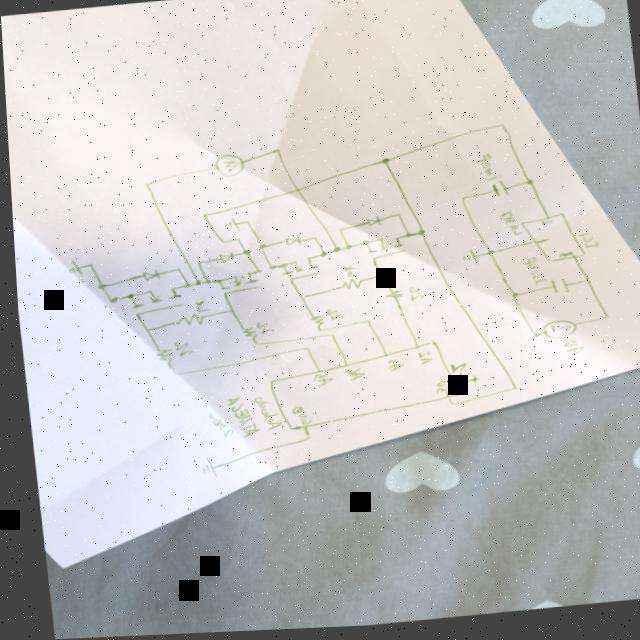capacitor: (545, 282, 568, 300), (487, 185, 509, 203)
crossover: (291, 189, 300, 196)
diode: (136, 269, 158, 283), (212, 253, 234, 267), (278, 237, 300, 251), (360, 219, 382, 232)
ground: (192, 458, 213, 482), (457, 253, 476, 271), (61, 261, 81, 278), (221, 219, 237, 234)
junction: (296, 437, 309, 445), (377, 161, 389, 169), (269, 150, 281, 158), (526, 336, 536, 345), (93, 284, 104, 292), (522, 183, 533, 191), (140, 183, 152, 190), (239, 251, 249, 259), (223, 309, 233, 317), (253, 246, 263, 254), (105, 297, 115, 305), (506, 297, 516, 304), (316, 254, 326, 261), (197, 214, 207, 221), (414, 234, 424, 241), (329, 250, 339, 257), (166, 372, 176, 379), (400, 236, 410, 243), (495, 127, 506, 133), (597, 320, 607, 326), (307, 238, 315, 245), (483, 255, 492, 261), (443, 405, 452, 411), (341, 248, 350, 254), (391, 216, 399, 222), (298, 349, 306, 355), (334, 231, 343, 236), (192, 263, 201, 268), (372, 277, 381, 282), (578, 284, 587, 289), (506, 391, 515, 396), (171, 269, 180, 274), (181, 285, 188, 291), (241, 222, 249, 227), (217, 242, 225, 247), (296, 298, 304, 303), (324, 336, 332, 341), (266, 268, 274, 273), (83, 265, 92, 269), (457, 201, 465, 205), (360, 323, 368, 327), (140, 330, 148, 334), (248, 344, 256, 348), (231, 240, 239, 244), (253, 272, 259, 277), (191, 283, 198, 287), (203, 282, 208, 286)
resistor: (171, 315, 203, 330), (335, 281, 361, 295), (149, 350, 171, 365), (381, 292, 402, 304), (237, 329, 255, 341), (306, 317, 322, 330)
source: (536, 325, 574, 346)
text: (220, 397, 256, 442), (247, 396, 281, 435), (203, 412, 231, 442), (472, 157, 499, 188), (517, 261, 544, 291), (447, 366, 477, 390), (494, 215, 519, 243), (285, 407, 309, 429), (575, 236, 599, 255), (557, 343, 582, 361), (168, 342, 190, 360), (307, 375, 331, 391), (337, 370, 361, 385), (249, 323, 272, 338), (380, 361, 401, 377), (427, 383, 445, 399), (411, 354, 430, 369), (321, 311, 340, 325), (339, 268, 355, 284), (403, 290, 420, 305), (189, 301, 206, 315), (531, 241, 547, 250), (554, 257, 571, 265), (537, 225, 550, 232)
transistor: (125, 287, 180, 318), (212, 273, 257, 299), (276, 259, 318, 285), (361, 238, 401, 264)
